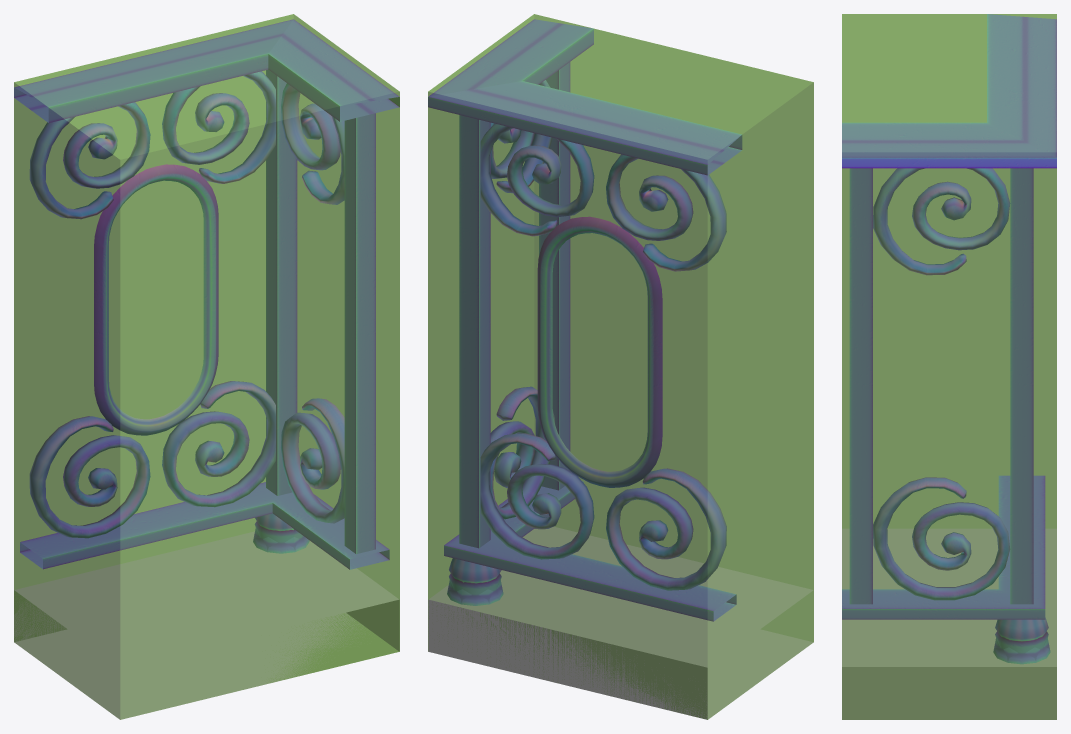
The model's file is F_md_Balcony_S_end_04.fbx.
3 views of the same model, side by side, from view 1: azimuth 30°, elevation 25°; view 2: azimuth 150°, elevation 25°; view 3: azimuth 270°, elevation 25° (orthographic).
Parts seen in each view (by area): view 1: F_md_Balcony_S_end_04_col_01, F_md_Balcony_S_end_04_LOD0; view 2: F_md_Balcony_S_end_04_col_01, F_md_Balcony_S_end_04_LOD0; view 3: F_md_Balcony_S_end_04_col_01, F_md_Balcony_S_end_04_LOD0.
Part boxes in pixels (bbox=[...]): F_md_Balcony_S_end_04_col_01: bbox=[14, 14, 399, 719]; F_md_Balcony_S_end_04_LOD0: bbox=[14, 19, 399, 719]; F_md_Balcony_S_end_04_col_01: bbox=[428, 14, 813, 719]; F_md_Balcony_S_end_04_LOD0: bbox=[428, 19, 813, 719]; F_md_Balcony_S_end_04_col_01: bbox=[842, 14, 1056, 719]; F_md_Balcony_S_end_04_LOD0: bbox=[842, 14, 1056, 719].
Size of what is drawn, in the model's own units: 56 by 107 by 36.79.
